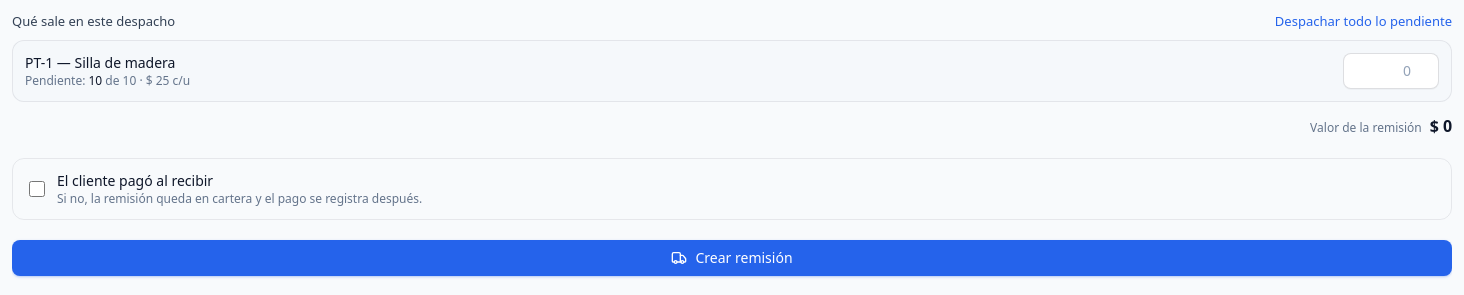
Test case: RemissionForm › adds the order VAT to the value of the remission
Click the button "Despachar todo lo pendiente": (1363, 22) [1275, 12, 1452, 32]
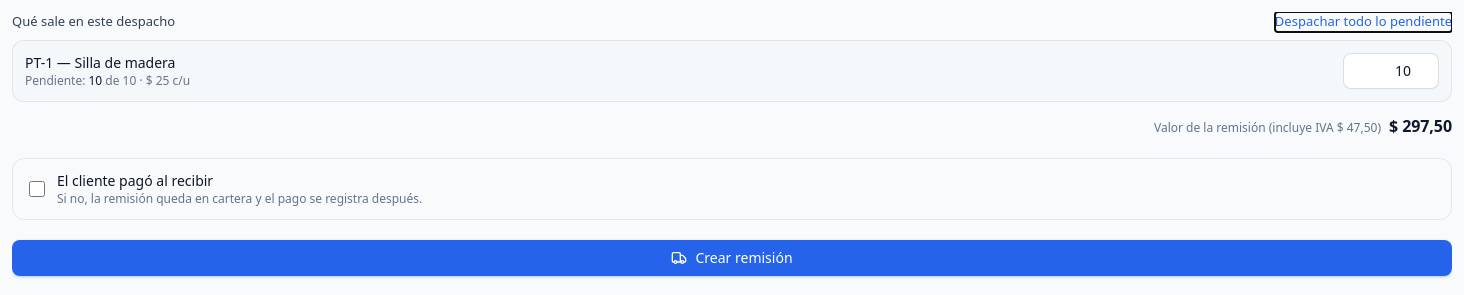
Expected: the text "Valor de la remisión (incluye IVA $ 47,50)" is shown, [1154, 120, 1381, 136]
Expected: the text "$ 297,50" is shown, [1389, 114, 1452, 138]
